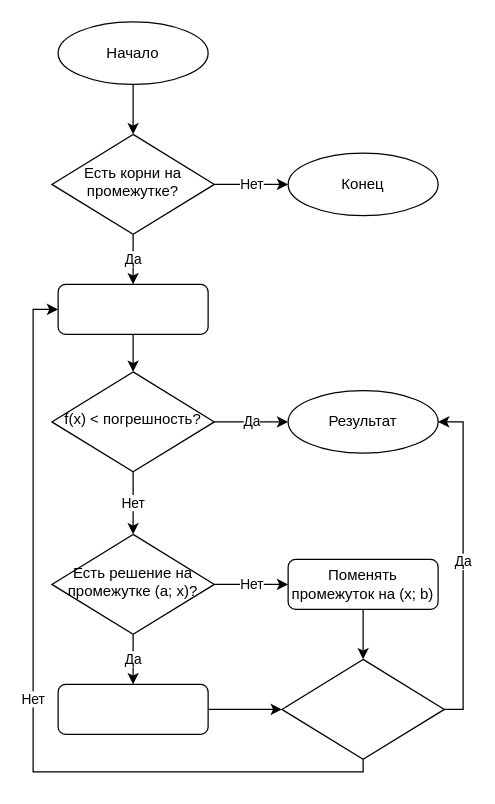
Some shapes in this 495 by 804 pixel diagram are drawn without their labels. The box of each missing label's shape, as (x1, y1, x2, y2) in pixels:
x = (a+b)/2: (57, 283, 208, 334)
Поменять промежуток на (a; x): (57, 683, 208, 734)
Промежуток меньше погрешности?: (281, 658, 444, 759)
